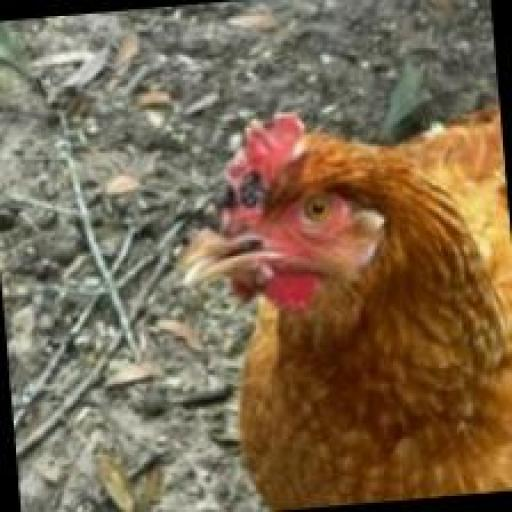disease: (184, 136, 285, 240)
